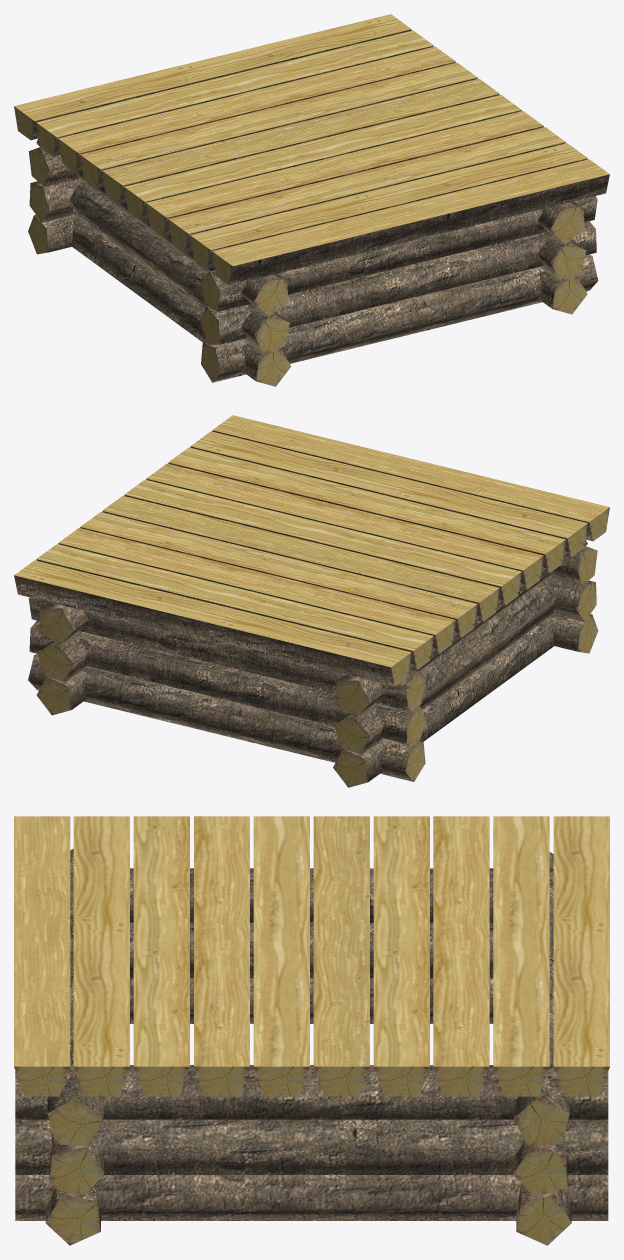
File: construction_wood_foundation_square_mesh.fbx
3 views of the same model, one above another, from view 1: azimuth 30°, elevation 25°; view 2: azimuth 150°, elevation 25°; view 3: azimuth 270°, elevation 25° (orthographic). The views are drawn at different scales.
Visible parts, largest first — view 1: construction_wood_foundation_square_mesh; view 2: construction_wood_foundation_square_mesh; view 3: construction_wood_foundation_square_mesh.
Boxes of the visible parts, x1=… form: construction_wood_foundation_square_mesh: x1=14, y1=14, x2=609, y2=386; construction_wood_foundation_square_mesh: x1=14, y1=415, x2=609, y2=787; construction_wood_foundation_square_mesh: x1=14, y1=816, x2=609, y2=1245.
Bounding box in the file's own units: 300 × 99.96 × 302.
